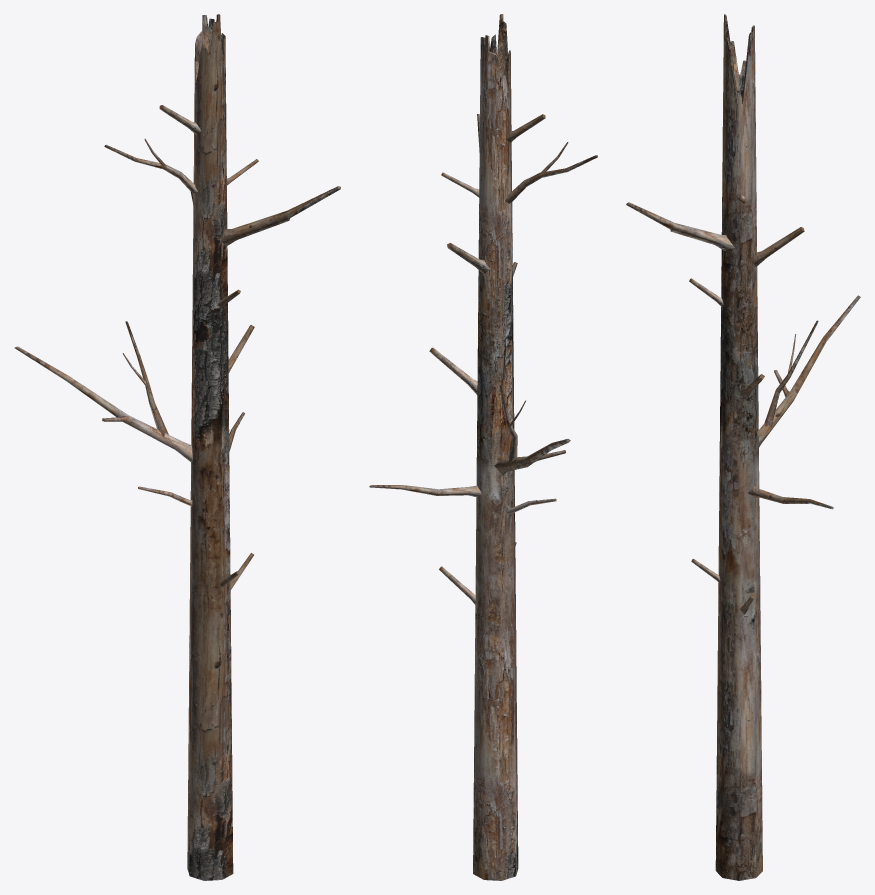
Rendered from trunk1.fbx.
3 renders of one model, left to right at view 1: azimuth 30°, elevation 25°; view 2: azimuth 150°, elevation 25°; view 3: azimuth 270°, elevation 25°, orthographic.
Parts seen in each view (by area): view 1: polySurface23; view 2: polySurface23; view 3: polySurface23.
Boxes of the visible parts, x1,y1,x2,y2 form: polySurface23: (14,14,340,880); polySurface23: (369,14,597,880); polySurface23: (626,14,860,880).
Bounding box in the file's own units: 5.35 × 20.32 × 5.05.
